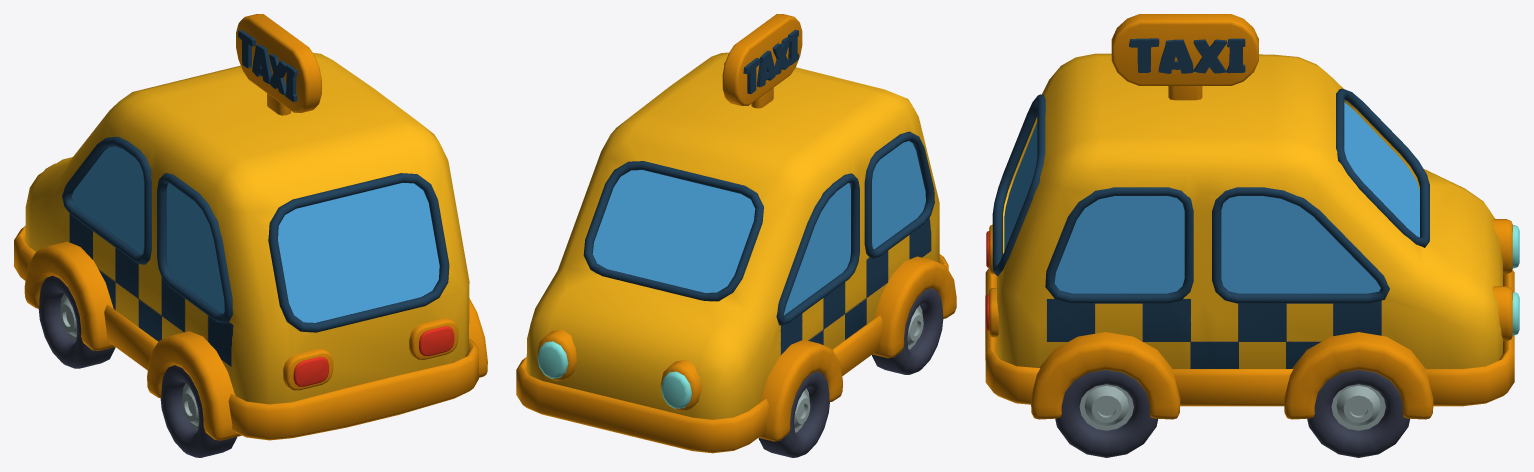
The model's file is Taxi_tier1.fbx.
3 views of the same model, side by side, from view 1: azimuth 30°, elevation 25°; view 2: azimuth 150°, elevation 25°; view 3: azimuth 270°, elevation 25° (orthographic). The views are drawn at different scales.
Visible parts, largest first — view 1: Cube.009, Cube.011, Cube.010, Cylinder.005, Cylinder.004, Cube, Text, Cube.013, Cube.014; view 2: Cube.009, Cube.011, Cube.010, Cylinder.005, Cylinder.004, Cube, Cylinder.002, Text, Cylinder.001; view 3: Cube.009, Cube.010, Cylinder.005, Cylinder.004, Cube.011, Cube, Text.001, Cylinder.001, Cube.013, Cylinder.002.
Boxes of the visible parts, x1,y1,x2,y2 form: Cube.009: (25, 52, 469, 404); Cube.011: (14, 226, 478, 440); Cube.010: (62, 136, 449, 332); Cylinder.005: (24, 241, 487, 440); Cylinder.004: (38, 275, 237, 457); Cube: (236, 14, 321, 112); Text: (238, 30, 297, 101); Cube.013: (283, 318, 458, 390); Cube.014: (293, 326, 454, 386); Cube.009: (526, 52, 939, 419); Cube.011: (516, 254, 948, 453); Cube.010: (583, 131, 934, 325); Cylinder.005: (759, 256, 956, 441); Cylinder.004: (758, 288, 943, 457); Cube: (722, 14, 802, 105); Cylinder.002: (537, 341, 691, 408); Text: (743, 29, 798, 94); Cylinder.001: (537, 329, 701, 411); Cube.009: (997, 53, 1502, 368); Cube.010: (992, 88, 1429, 303); Cylinder.005: (1031, 332, 1433, 419); Cylinder.004: (1055, 370, 1409, 457); Cube.011: (985, 268, 1514, 406); Cube: (1111, 14, 1258, 85); Text.001: (1129, 38, 1245, 73); Cylinder.001: (1492, 219, 1512, 341); Cube.013: (989, 224, 998, 337); Cylinder.002: (1512, 225, 1519, 335).
Size of the model in its own units: 851 by 1080 by 1388.
